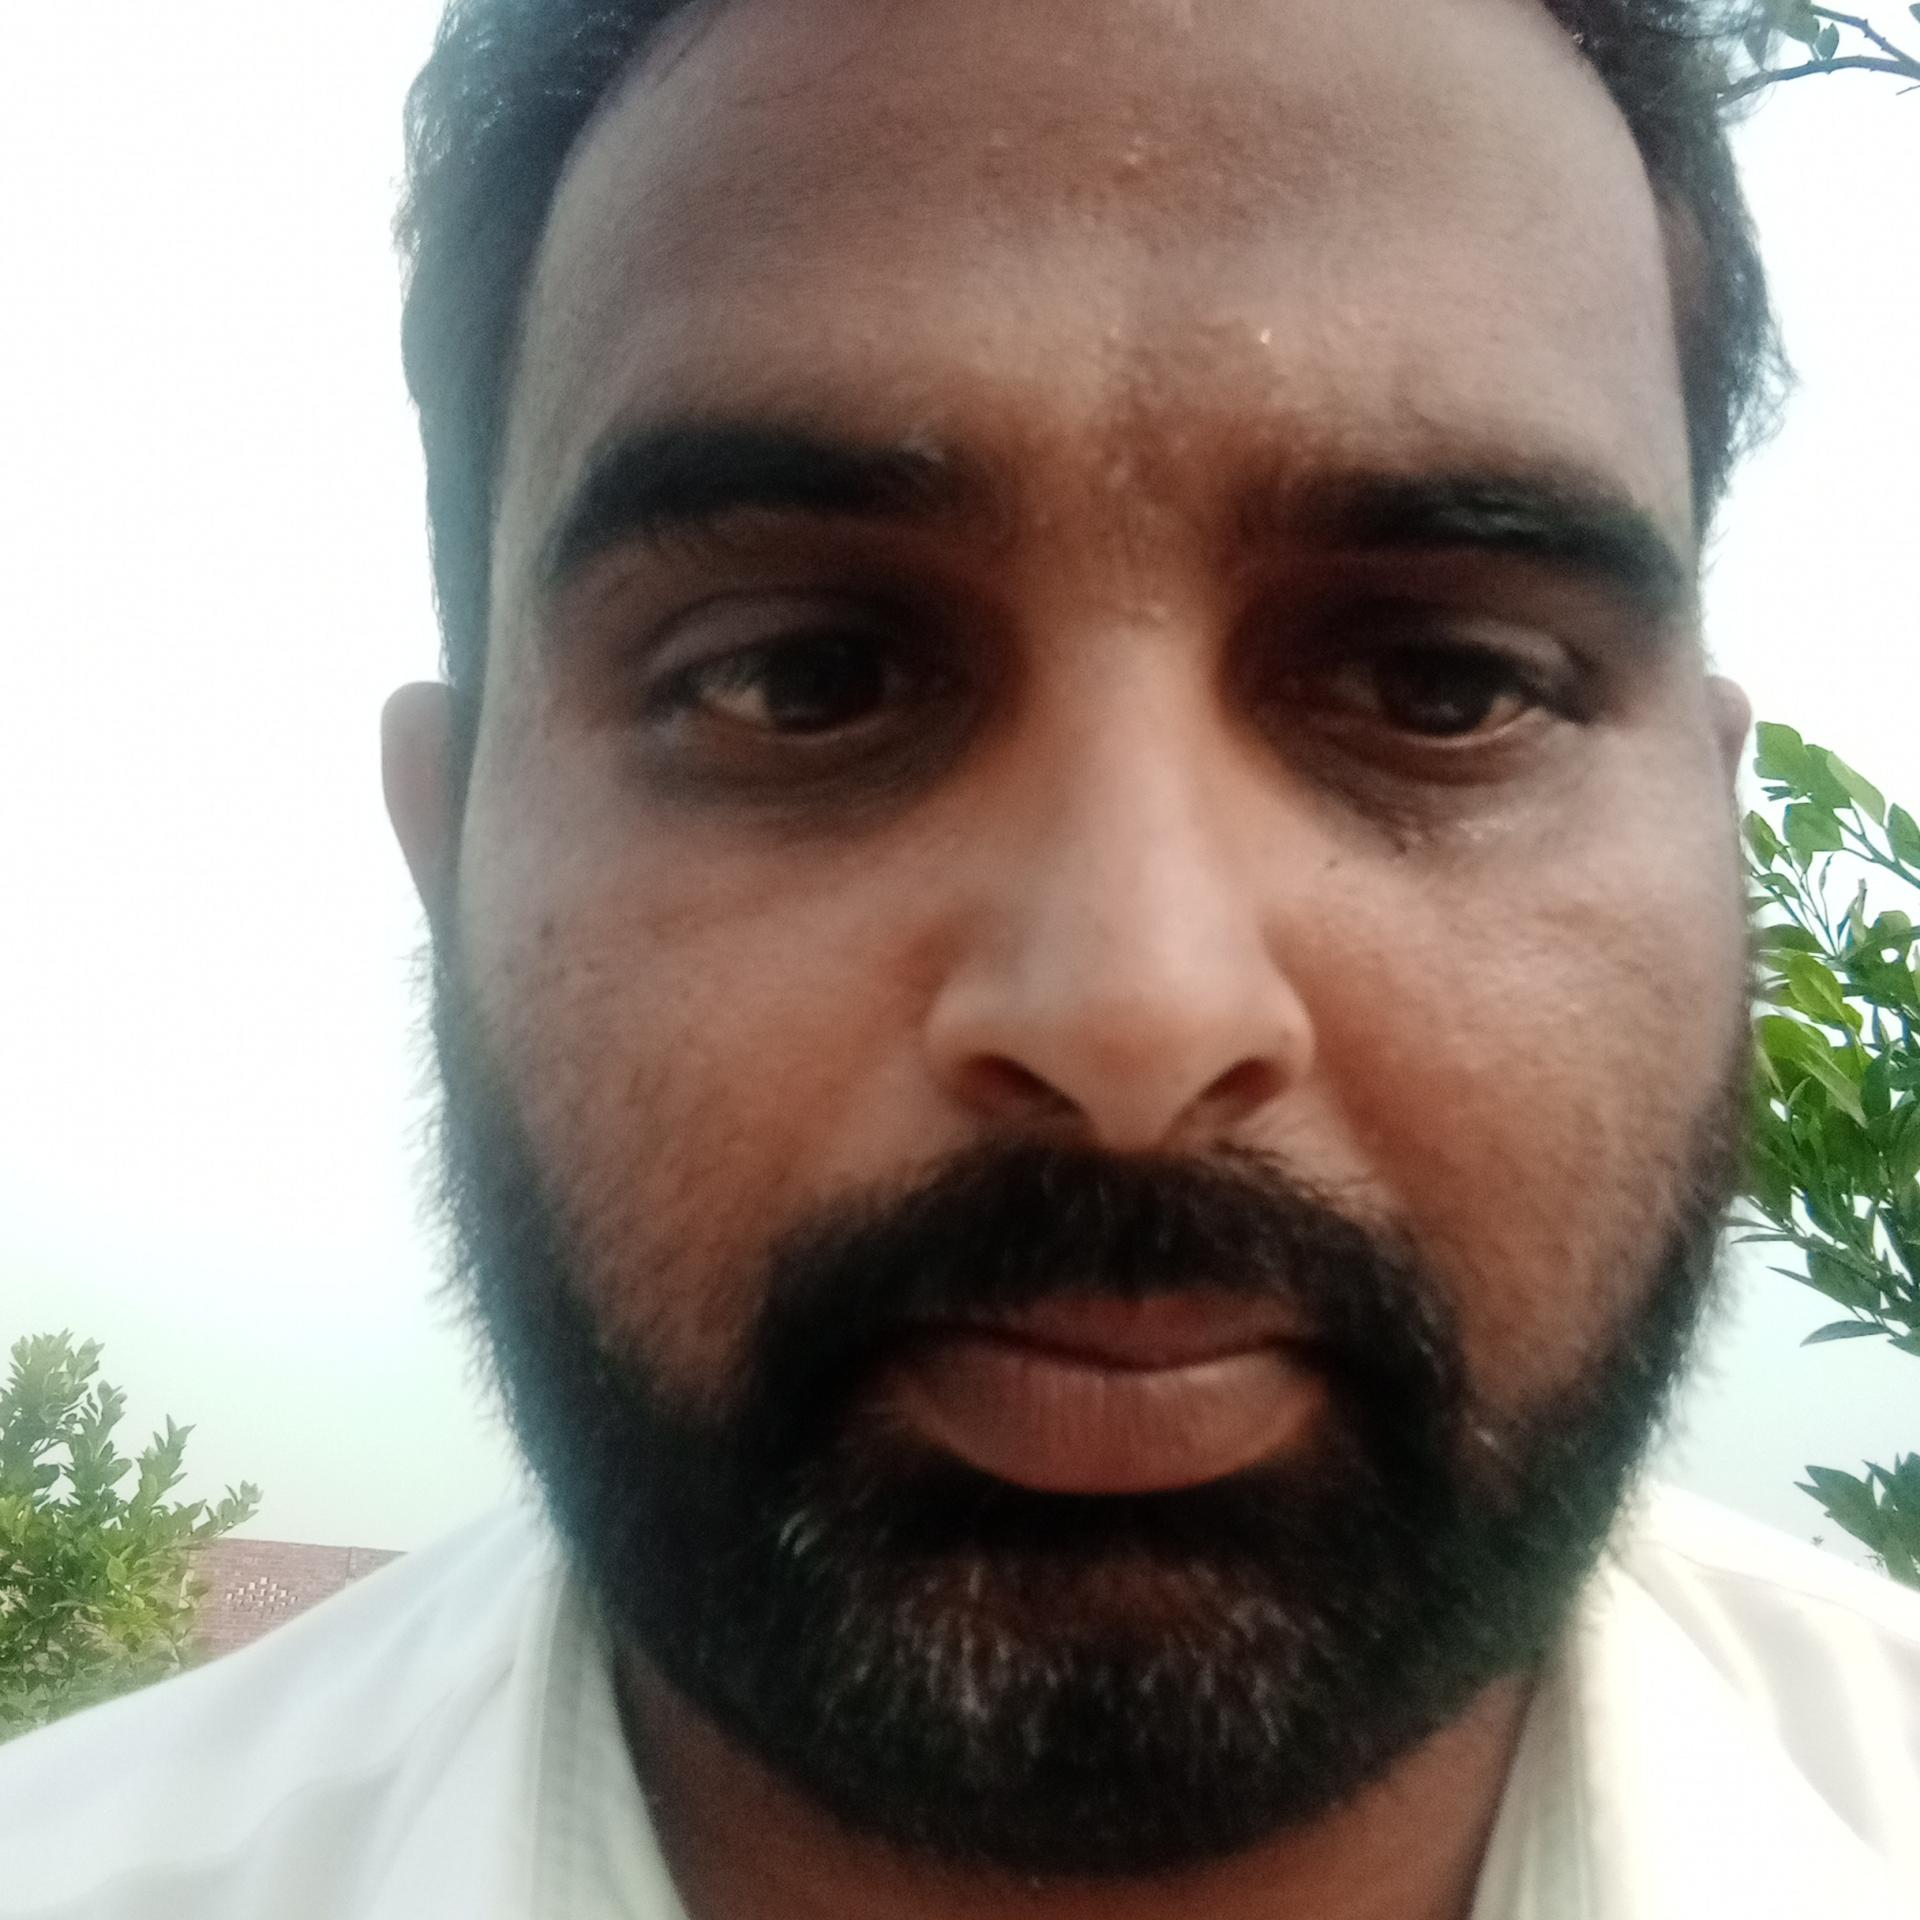Acne: (1106, 134, 1162, 181), (1099, 455, 1139, 506), (1558, 874, 1598, 920), (1549, 995, 1586, 1036)
Dark Circles: (1208, 680, 1630, 872), (626, 668, 1018, 837)
